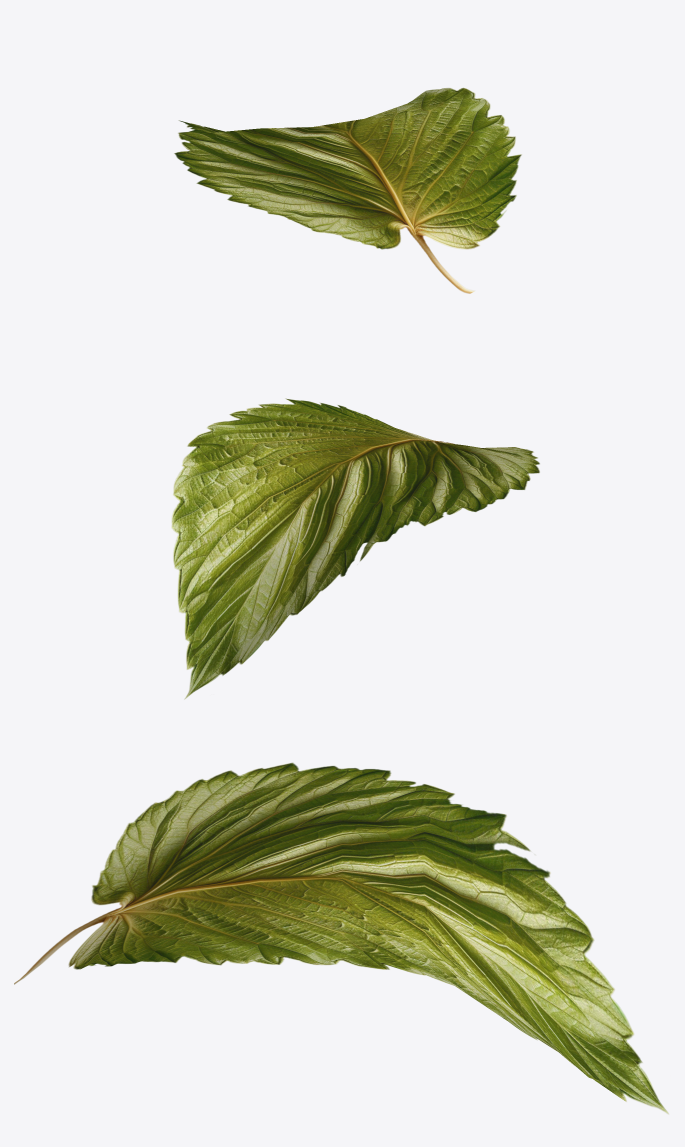
File: qon.glb
3 renders of one model, top to bottom at view 1: azimuth 30°, elevation 25°; view 2: azimuth 150°, elevation 25°; view 3: azimuth 270°, elevation 25°, orthographic. The views are drawn at different scales.
Visible parts, largest first — view 1: Plane.001; view 2: Plane.001; view 3: Plane.001.
Boxes of the visible parts, x1,y1,x2,y2 form: Plane.001: (174,88,521,293); Plane.001: (171,398,539,699); Plane.001: (14,762,668,1114).
Size of the model in its own units: 2 by 0.7625 by 2.
Materials: 1 (1 with a texture image).
